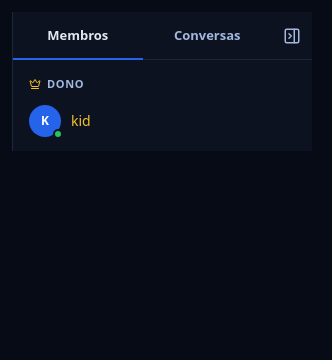
SideDock › a aba Conversas mostra o estado vazio, e a aba é a mesma nas duas telas
Later steps or results of the test are not shown.
Click the tab "Conversas" at (207, 36), box [142, 12, 272, 60]
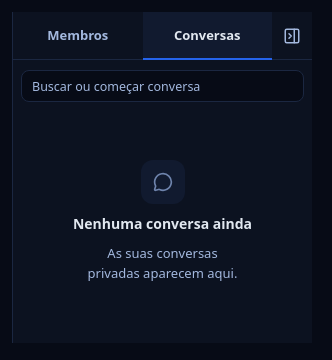
Expected: the text "Nenhuma conversa ainda" is shown, [73, 214, 252, 234]
Expected: the button "kid" is gone
